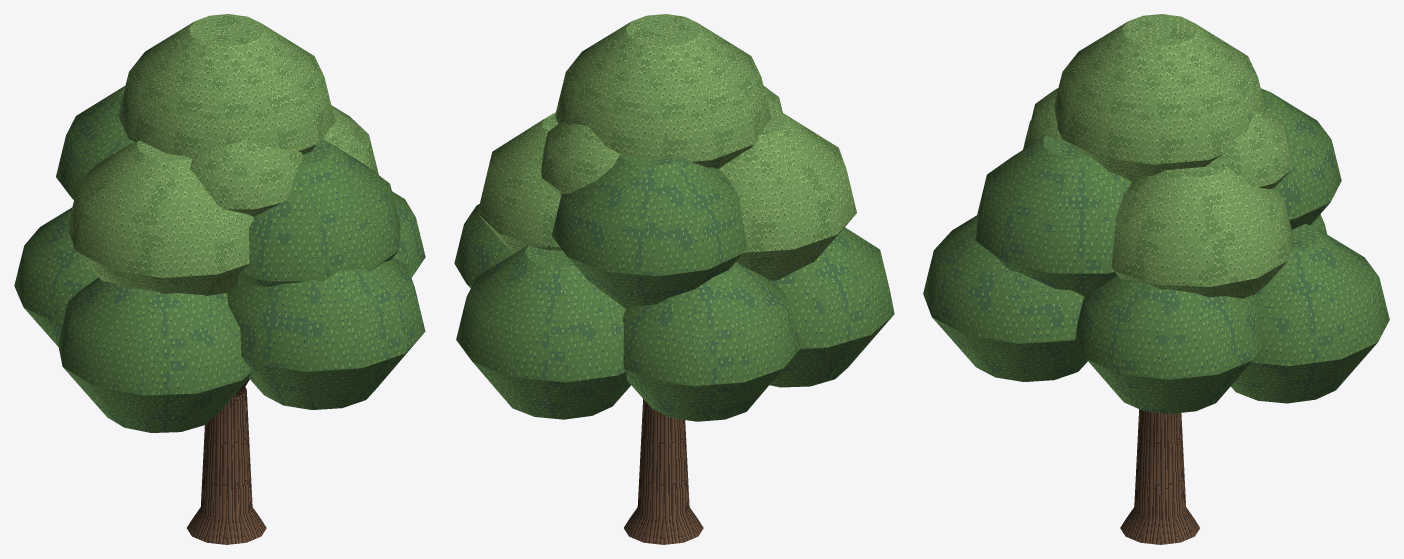
Rendered from cn_big_tree_1.glb.
3 views of the same model, side by side, from view 1: azimuth 30°, elevation 25°; view 2: azimuth 150°, elevation 25°; view 3: azimuth 270°, elevation 25° (orthographic).
Visible parts, largest first — view 1: cn_big_tree_2; view 2: cn_big_tree_2; view 3: cn_big_tree_2.
Part boxes in pixels (x1,y1,x2,y2): cn_big_tree_2: (14, 14, 425, 544); cn_big_tree_2: (454, 14, 894, 544); cn_big_tree_2: (923, 14, 1389, 544).
Bounding box in the file's own units: 9.6 × 12.11 × 10.29.
3 materials, 3 textured.
